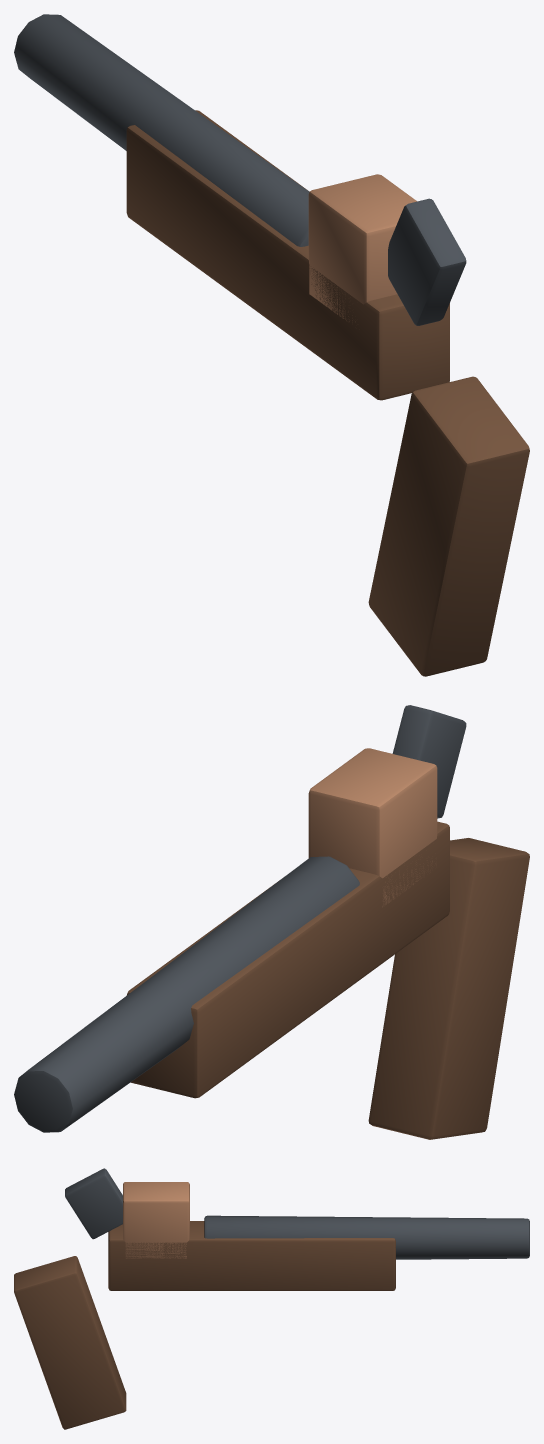
Rendered from weapon_pistol.glb.
3 renders of one model, top to bottom at view 1: azimuth 30°, elevation 25°; view 2: azimuth 150°, elevation 25°; view 3: azimuth 270°, elevation 25°, orthographic. The views are drawn at different scales.
Parts seen in each view (by area): view 1: Pistol; view 2: Pistol; view 3: Pistol.
Boxes of the visible parts, x1,y1,x2,y2 form: Pistol: (14, 14, 529, 676); Pistol: (14, 705, 529, 1139); Pistol: (14, 1168, 529, 1429).
Bounding box in the file's own units: 0.05 × 0.288 × 0.5386.
